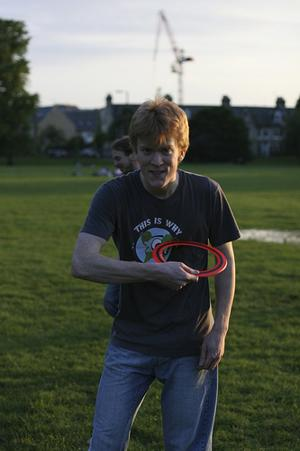person: (70, 98, 242, 451)
